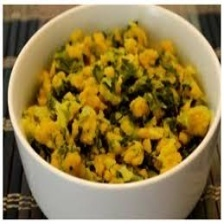sabzi: (3, 1, 220, 189)
